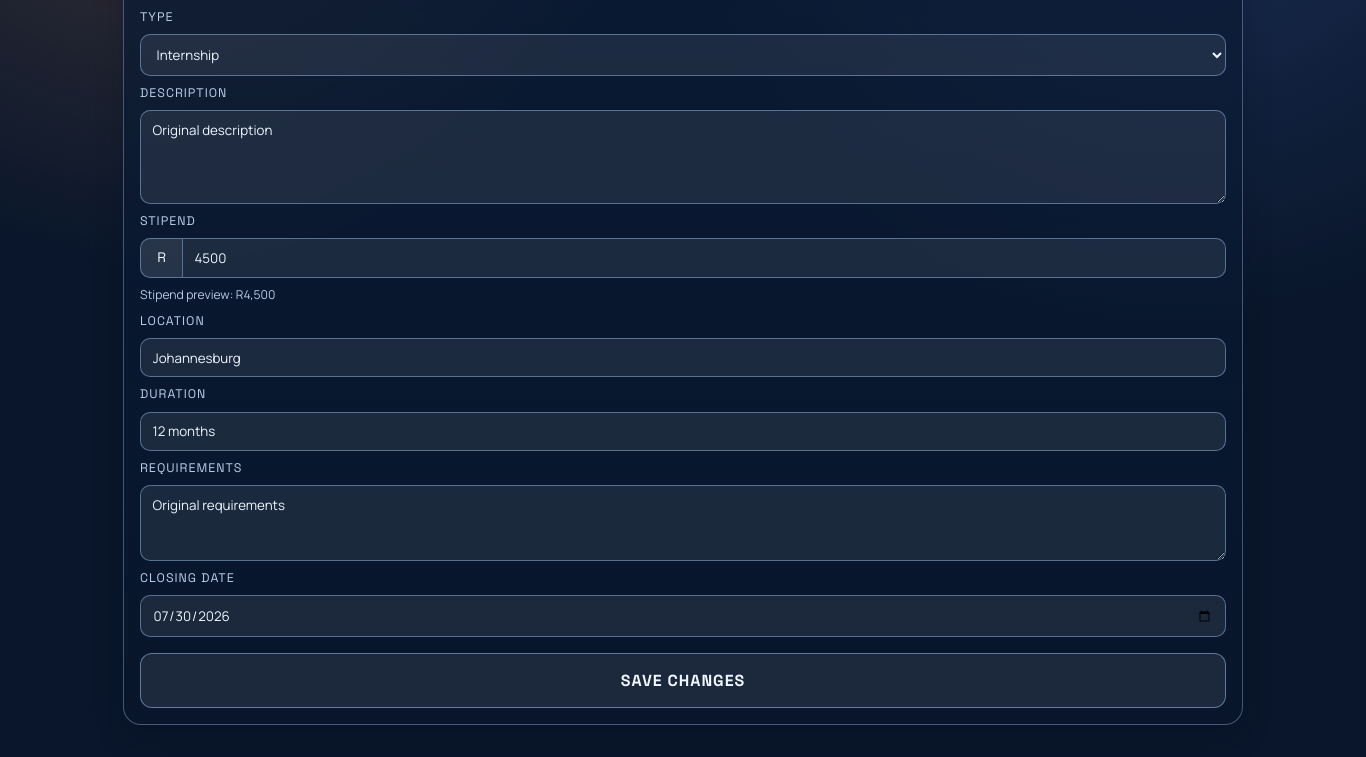
Provider Edit/Delete listing acceptance tests › 6. Edit form blocks past closing dates before saving
(page scrolled)
Type "2000-01-01" into the date field labelled "Closing date".
click(683, 616); type("2000-01-01")  # box x1=140 y1=595 x2=1226 y2=637
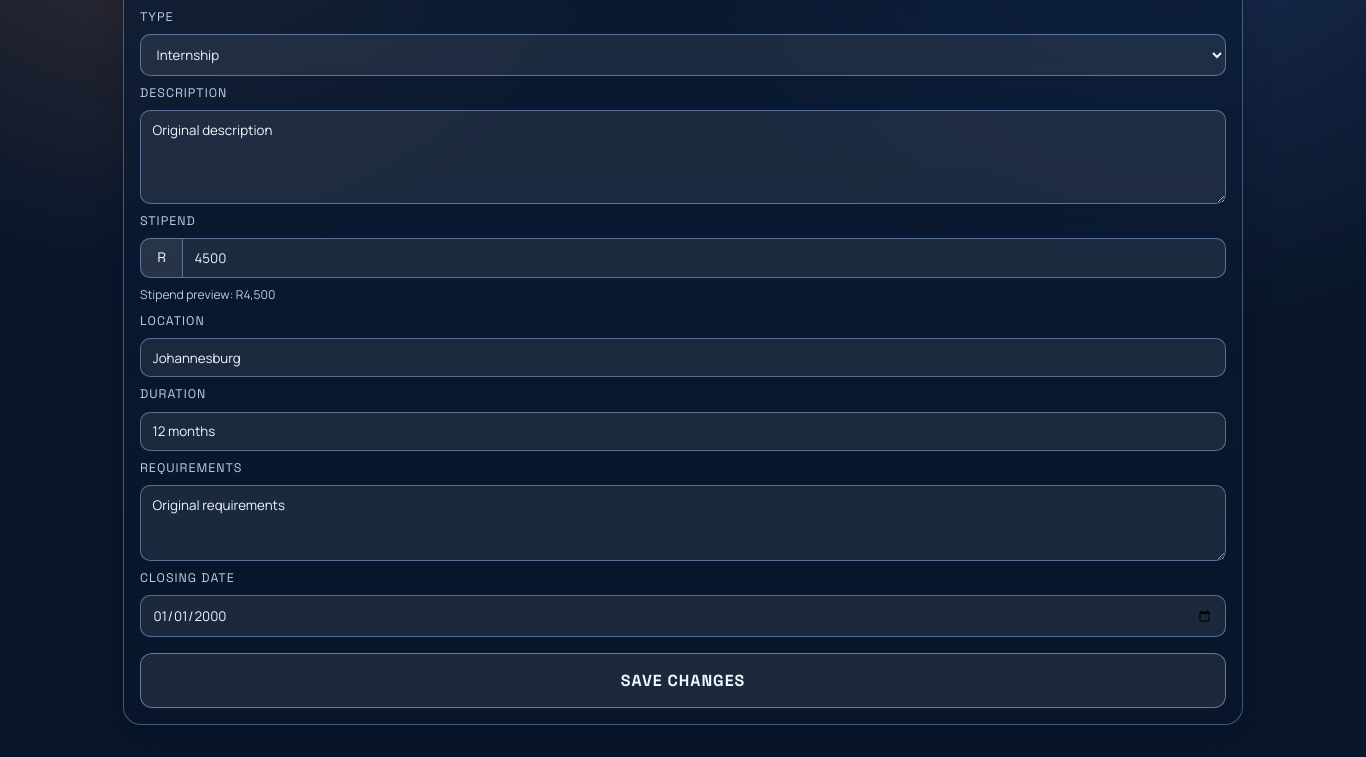
Click the button "Save changes".
click(683, 681)  # box x1=140 y1=653 x2=1226 y2=708
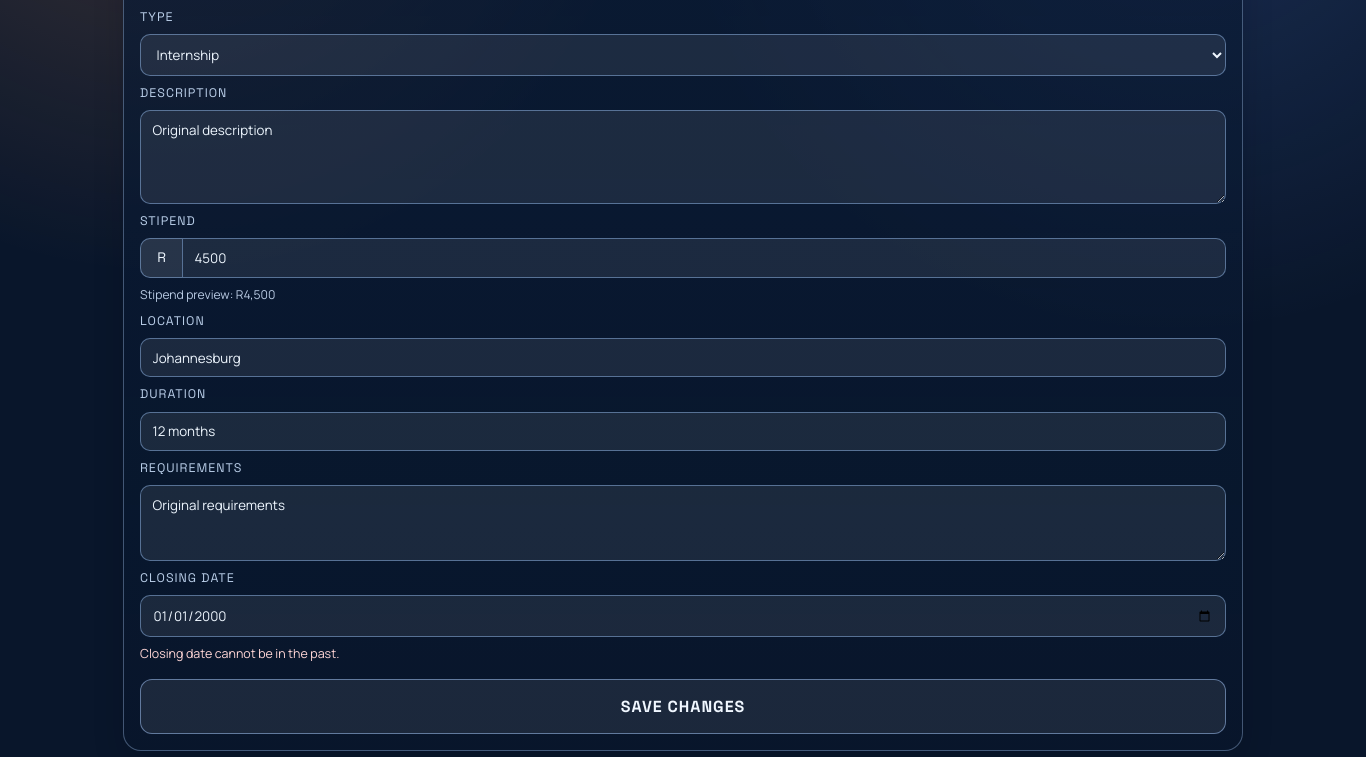
Result: the text "Closing date cannot be in the past." is shown at x1=140 y1=645 x2=339 y2=662
